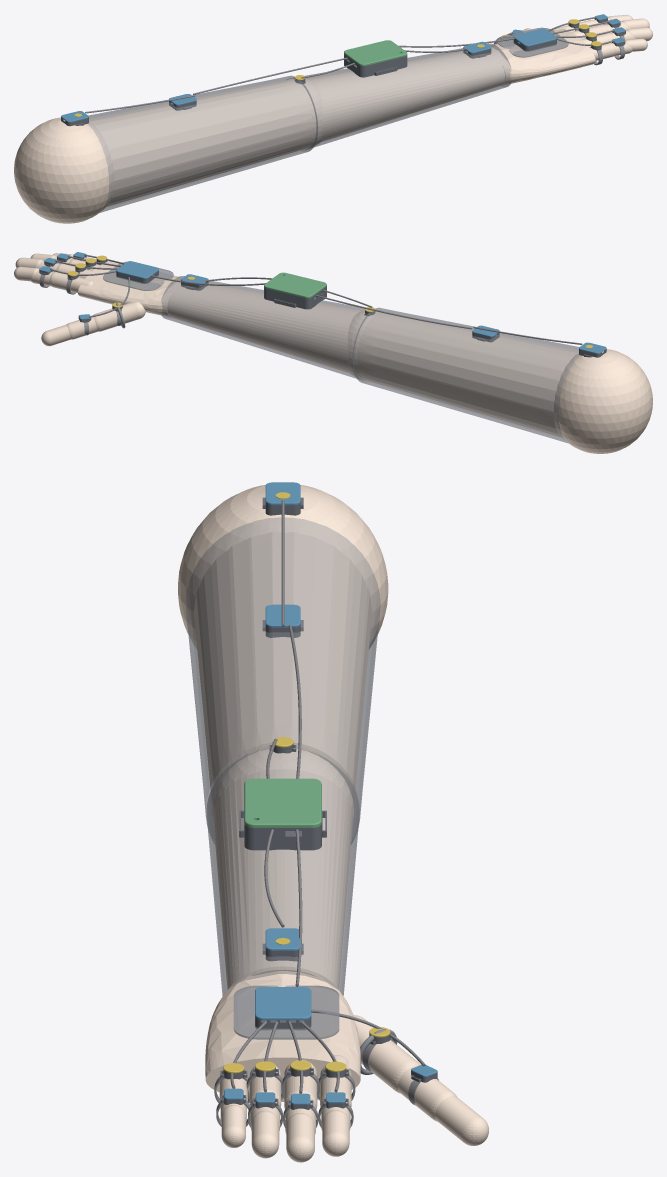
File: sleeve_iso.glb
3 views of the same model, one above another, from view 1: azimuth 30°, elevation 25°; view 2: azimuth 150°, elevation 25°; view 3: azimuth 270°, elevation 25° (orthographic). The views are drawn at different scales.
Parts seen in each view (by area): view 1: 020_sleeve upper, 001_upper arm, 021_sleeve fore, 003_forearm, 000_shoulder, 004_hand, 033_hub lid, 002_elbow, 032_hub base, 022_hand plate, 038_hand lid, 075_cable; view 2: 020_sleeve upper, 001_upper arm, 021_sleeve fore, 003_forearm, 000_shoulder, 004_hand, 033_hub lid, 017_thumb 0, 002_elbow, 032_hub base, 022_hand plate, 038_hand lid (+4 smaller); view 3: 020_sleeve upper, 001_upper arm, 021_sleeve fore, 003_forearm, 000_shoulder, 004_hand, 033_hub lid, 022_hand plate, 002_elbow, 032_hub base, 038_hand lid, 017_thumb 0 (+6 smaller).
Part boxes in pixels (box(x1,y1,x2,y2)): 020_sleeve upper: box(88, 75, 317, 212); 001_upper arm: box(89, 80, 313, 206); 021_sleeve fore: box(290, 43, 511, 148); 003_forearm: box(307, 48, 504, 141); 000_shoulder: box(14, 117, 114, 223); 004_hand: box(490, 28, 595, 85); 033_hub lid: box(344, 40, 407, 66); 002_elbow: box(288, 79, 322, 149); 032_hub base: box(344, 54, 407, 77); 022_hand plate: box(497, 27, 568, 57); 038_hand lid: box(513, 28, 556, 46); 075_cable: box(193, 57, 347, 94); 020_sleeve upper: box(352, 307, 579, 443); 001_upper arm: box(357, 312, 578, 437); 021_sleeve fore: box(161, 276, 367, 380); 003_forearm: box(167, 280, 363, 372); 000_shoulder: box(554, 349, 652, 453); 004_hand: box(78, 261, 181, 317); 033_hub lid: box(264, 272, 326, 298); 017_thumb 0: box(93, 301, 145, 331); 002_elbow: box(347, 310, 378, 380); 032_hub base: box(264, 286, 326, 309); 022_hand plate: box(103, 261, 173, 290); 038_hand lid: box(116, 261, 158, 278); 020_sleeve upper: box(186, 517, 380, 844); 001_upper arm: box(194, 532, 372, 801); 021_sleeve fore: box(206, 748, 359, 995); 003_forearm: box(213, 769, 352, 989); 000_shoulder: box(178, 485, 388, 648); 004_hand: box(205, 971, 360, 1101); 033_hub lid: box(244, 778, 321, 827); 022_hand plate: box(233, 985, 339, 1039); 002_elbow: box(212, 746, 353, 825); 032_hub base: box(239, 810, 326, 850); 038_hand lid: box(255, 987, 311, 1020); 017_thumb 0: box(352, 1015, 420, 1093).
Bounding box in the file's own units: 0.8199 × 0.1269 × 0.1768.
